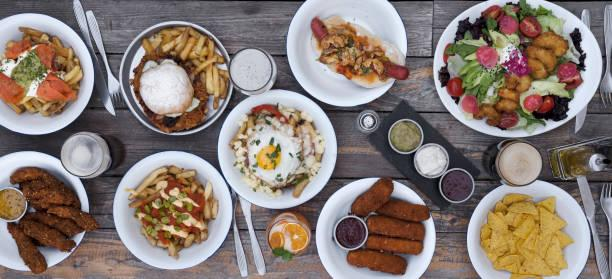Braised Crucian Carp: (434, 1, 599, 139), (217, 88, 335, 210), (112, 150, 231, 269), (118, 20, 230, 136), (286, 0, 405, 107), (465, 180, 592, 278), (315, 176, 436, 278), (1, 11, 95, 136), (1, 150, 91, 271)
